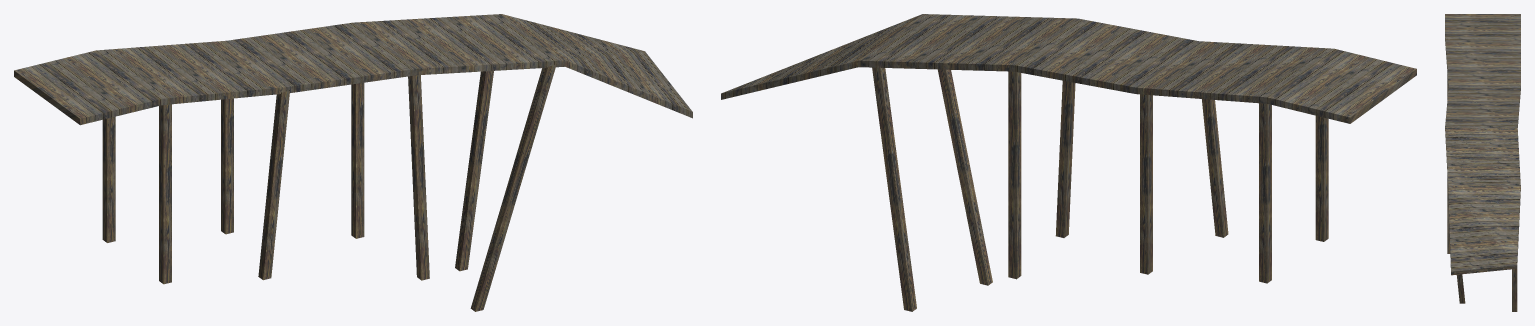
Rendered from cn2_jetty1.obj.
3 renders of one model, left to right at view 1: azimuth 30°, elevation 25°; view 2: azimuth 150°, elevation 25°; view 3: azimuth 270°, elevation 25°, orthographic. The views are drawn at different scales.
Visible parts, largest first — view 1: cn2_jetty1; view 2: cn2_jetty1; view 3: cn2_jetty1.
Boxes of the visible parts, bbox=[...] form: cn2_jetty1: bbox=[14, 14, 692, 311]; cn2_jetty1: bbox=[721, 14, 1416, 311]; cn2_jetty1: bbox=[1445, 14, 1520, 311].
Size of the model in its own units: 15.31 by 7.04 by 2.79.
2 materials, 2 textured.
